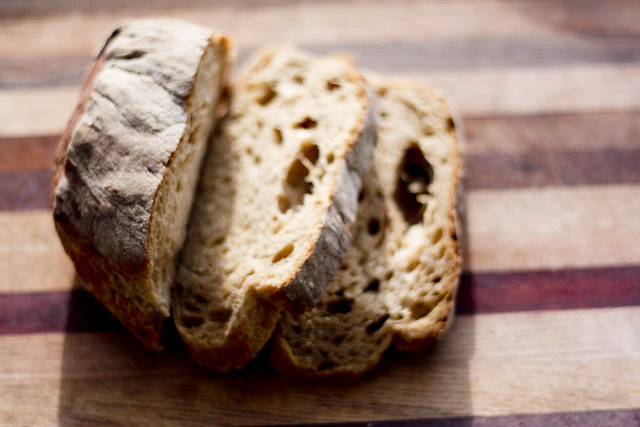slice of bread: (173, 34, 364, 357), (275, 65, 468, 378), (55, 10, 226, 359)
